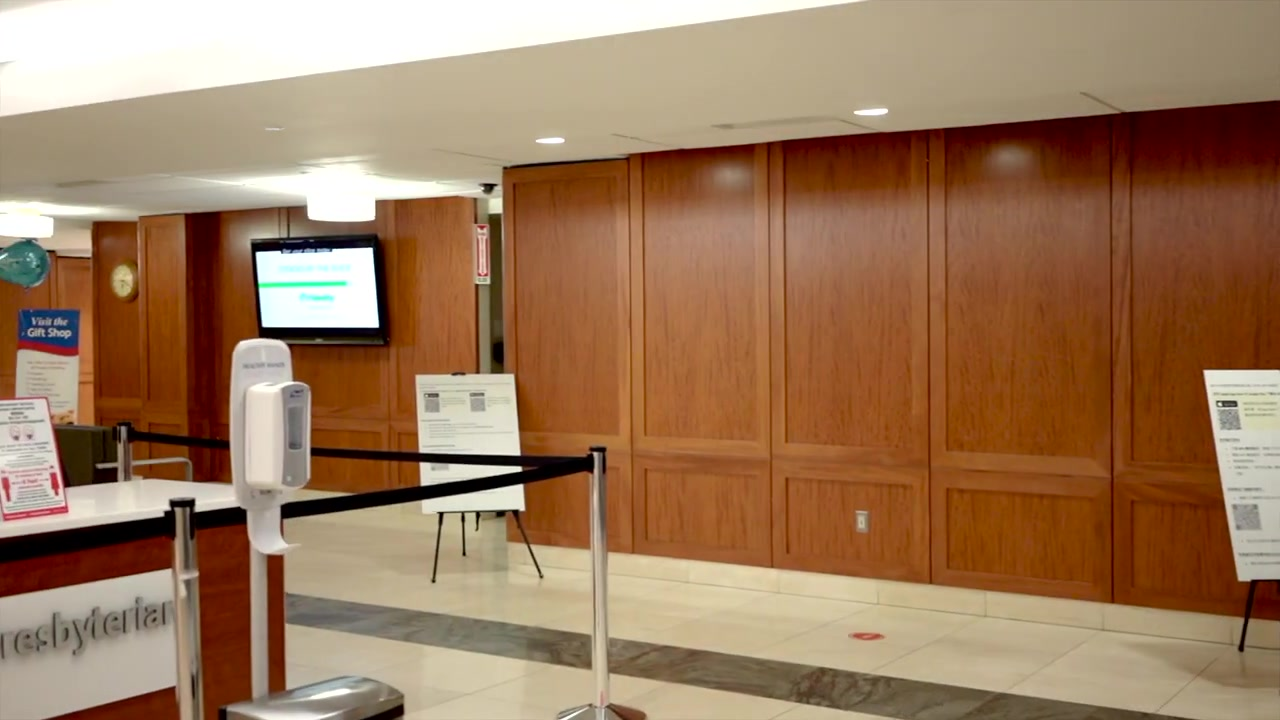TV: (250, 237, 394, 348)
counter: (1, 476, 292, 720)
countertop: (1, 474, 304, 538)
dispenser: (244, 373, 315, 561)
